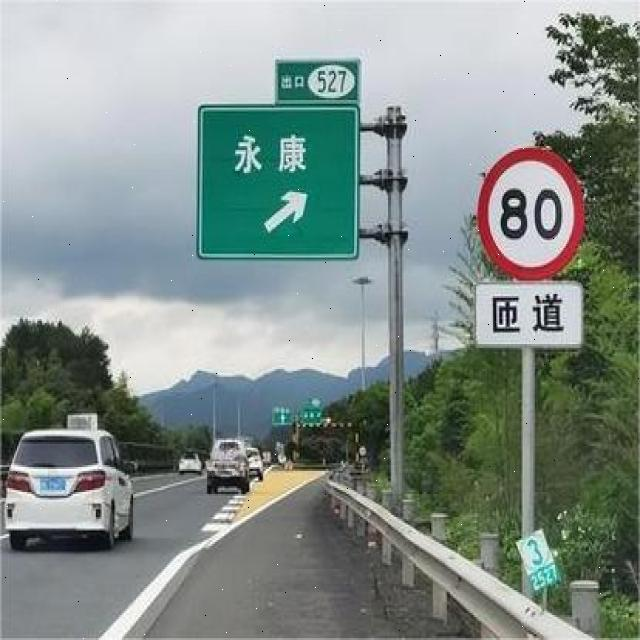speed limit 80: (477, 149, 584, 280)
